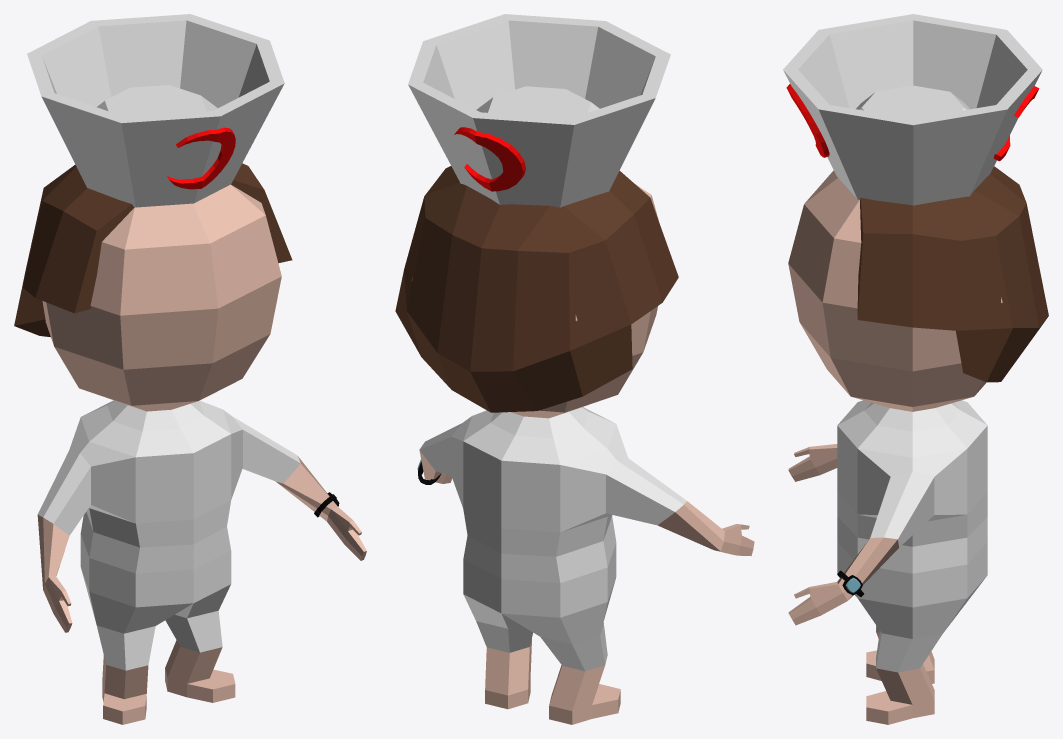
File: Hemşire Erkek.fbx
The picture shows the model from 3 angles, left to right: view 1: azimuth 30°, elevation 25°; view 2: azimuth 150°, elevation 25°; view 3: azimuth 270°, elevation 25°; orthographic projection. The views are drawn at different scales.
Parts seen in each view (by area): view 1: Karakter; view 2: Karakter; view 3: Karakter.
Boxes of the visible parts, bbox=[...] form: Karakter: bbox=[14, 14, 366, 724]; Karakter: bbox=[395, 14, 754, 724]; Karakter: bbox=[783, 14, 1048, 724].
Size of the model in its own units: 157 by 313 by 121.
